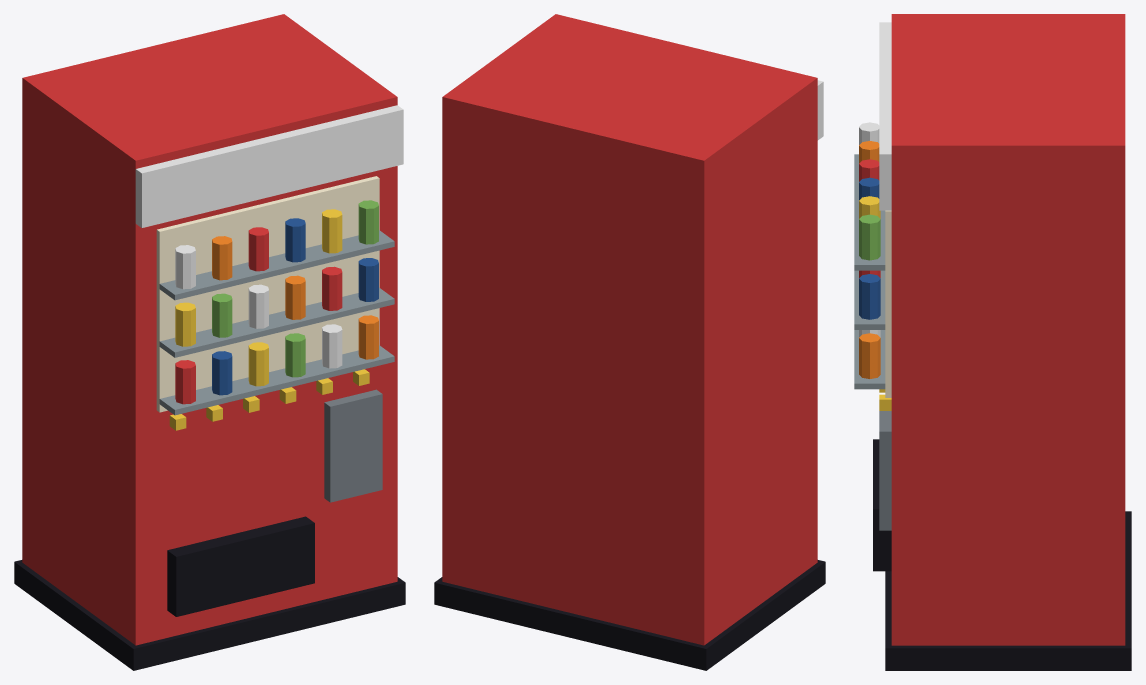
The model's file is VendingMachine.fbx.
3 views of the same model, side by side, from view 1: azimuth 30°, elevation 25°; view 2: azimuth 150°, elevation 25°; view 3: azimuth 270°, elevation 25° (orthographic). The views are drawn at different scales.
Parts seen in each view (by area): view 1: VendingMachine; view 2: VendingMachine; view 3: VendingMachine.
Boxes of the visible parts, x1,y1,x2,y2 form: VendingMachine: (14,14,405,670); VendingMachine: (434,14,825,670); VendingMachine: (854,14,1131,670).
Size of the model in its own units: 1.04 by 1.85 by 0.89.
